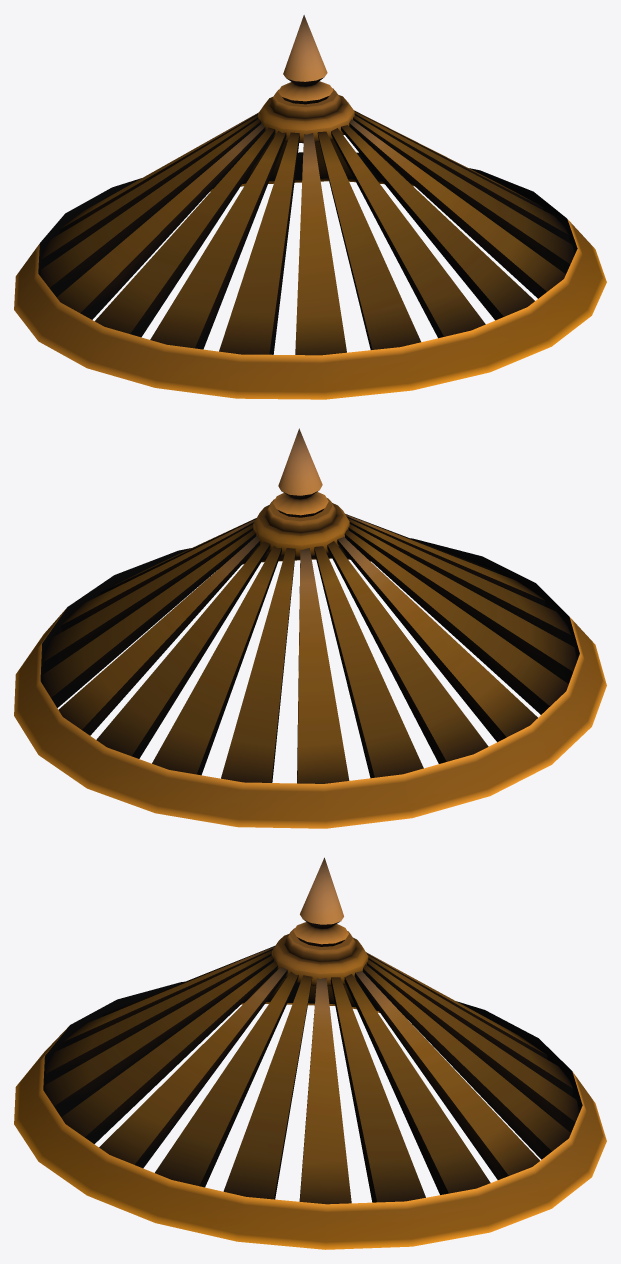
Rendered from Cap_Cone_Armored_Hat.gltf.
3 renders of one model, top to bottom at view 1: azimuth 30°, elevation 25°; view 2: azimuth 150°, elevation 25°; view 3: azimuth 270°, elevation 25°, orthographic.
Visible parts, largest first — view 1: Cap_Cone_Armored_Hat; view 2: Cap_Cone_Armored_Hat; view 3: Cap_Cone_Armored_Hat.
Boxes of the visible parts, left/top/right/bottom form: Cap_Cone_Armored_Hat: left=14, top=15, right=606, bottom=399; Cap_Cone_Armored_Hat: left=14, top=428, right=606, bottom=828; Cap_Cone_Armored_Hat: left=14, top=857, right=606, bottom=1249.
Size of the model in its own units: 1.31 by 0.6857 by 1.3.
Materials: 2 (2 with a texture image).
